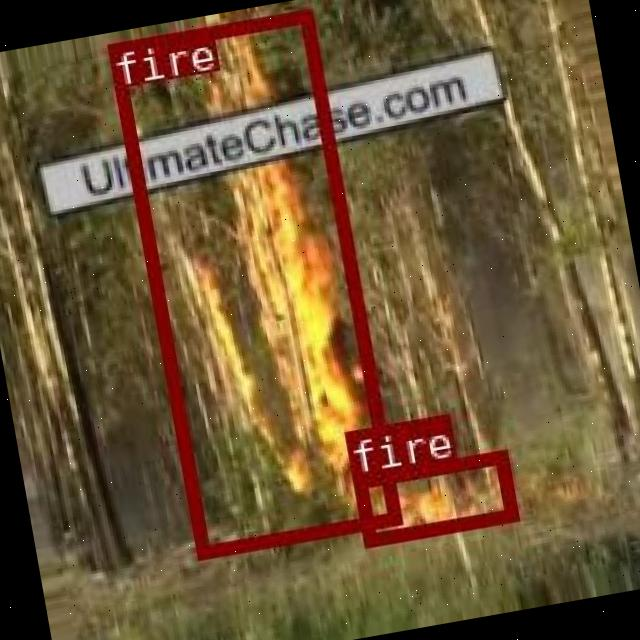fire: (106, 6, 400, 556), (350, 448, 516, 544)
